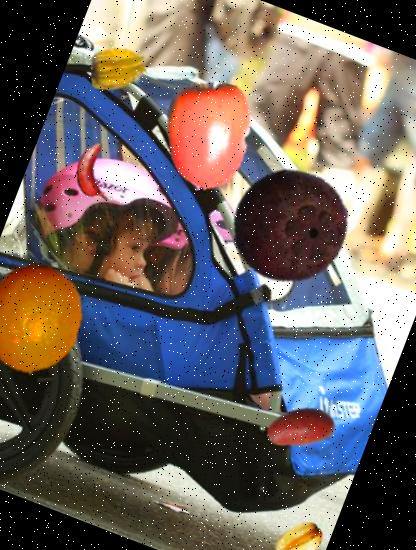Banana: (54, 134, 132, 212)
Carambula: (265, 509, 331, 550)
Kaki: (134, 64, 275, 206)
Lemon: (0, 249, 105, 391)
Mangostan: (214, 150, 366, 302)
Physalis: (81, 32, 156, 107)
Potato: (255, 383, 345, 473)
